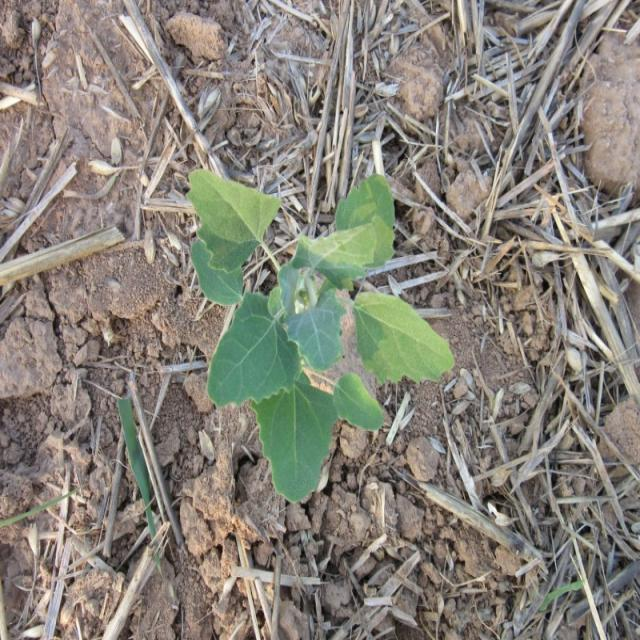ca: (183, 166, 456, 501)
